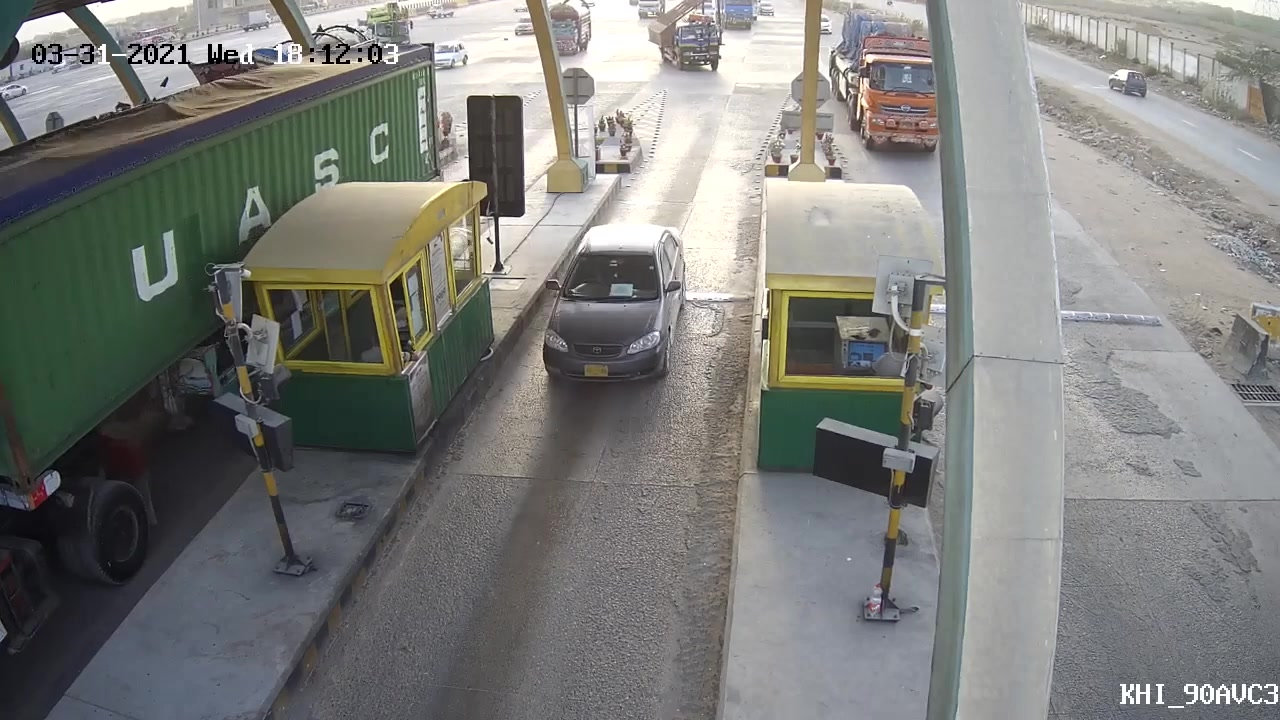F1: (523, 214, 698, 398)
